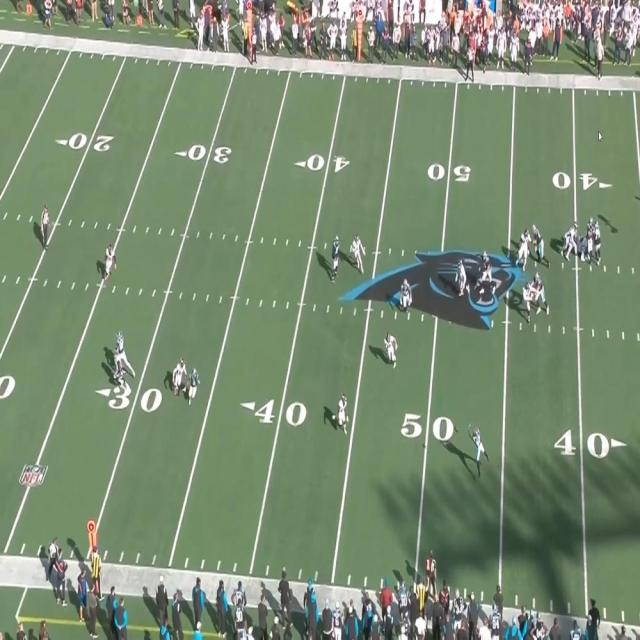db: (174, 360, 189, 398), (111, 345, 120, 391), (338, 395, 348, 433), (106, 245, 117, 279), (331, 238, 340, 277)
lb: (351, 238, 364, 274), (386, 332, 396, 366)
skill: (474, 429, 487, 477), (116, 330, 129, 375), (190, 366, 200, 404)
